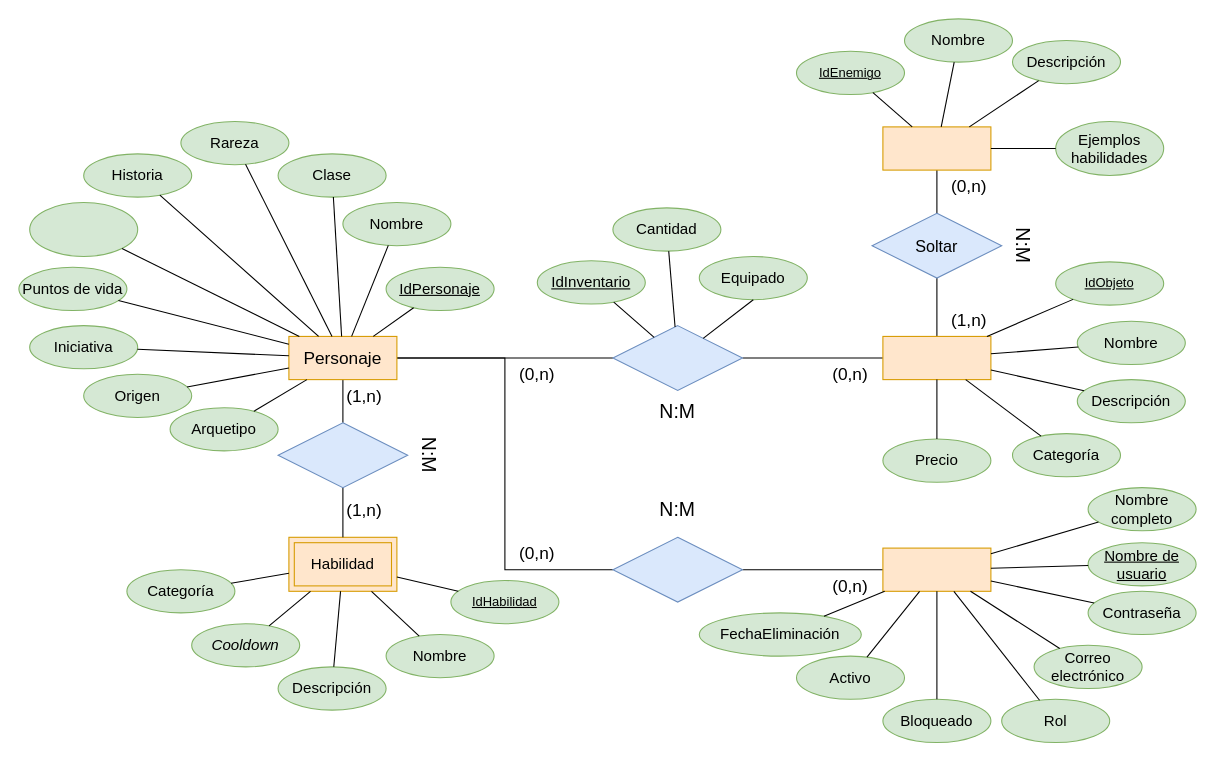
The diagram is 1215 pixels wide and 761 high, and some of its shapes have lost their labels. Each missing label, with the centre of its shape:
"Adquirir" belongs at point 677,569.
"Enemigo" belongs at point 936,148.
"Jugador" belongs at point 936,569.
"Objeto" belongs at point 936,357.
"Poseer" belongs at point 342,455.
"Tirada de ataque básico" belongs at point 83,228.
"Utilizar" belongs at point 677,357.
